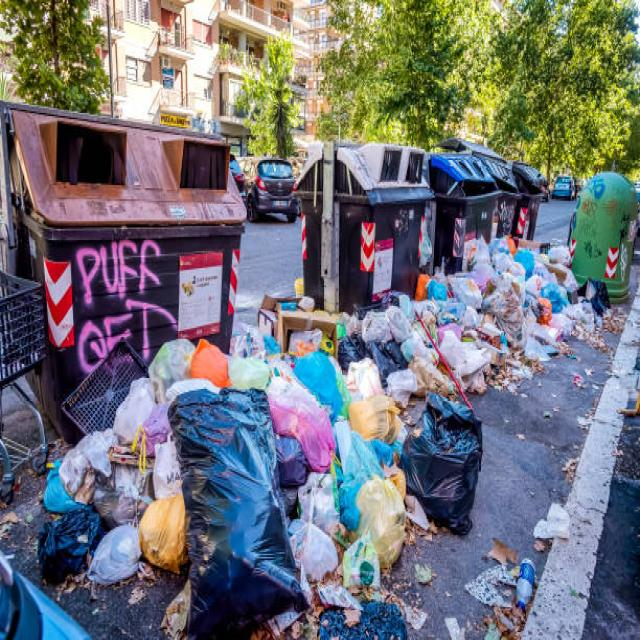cardboard: (110, 259, 571, 558)
